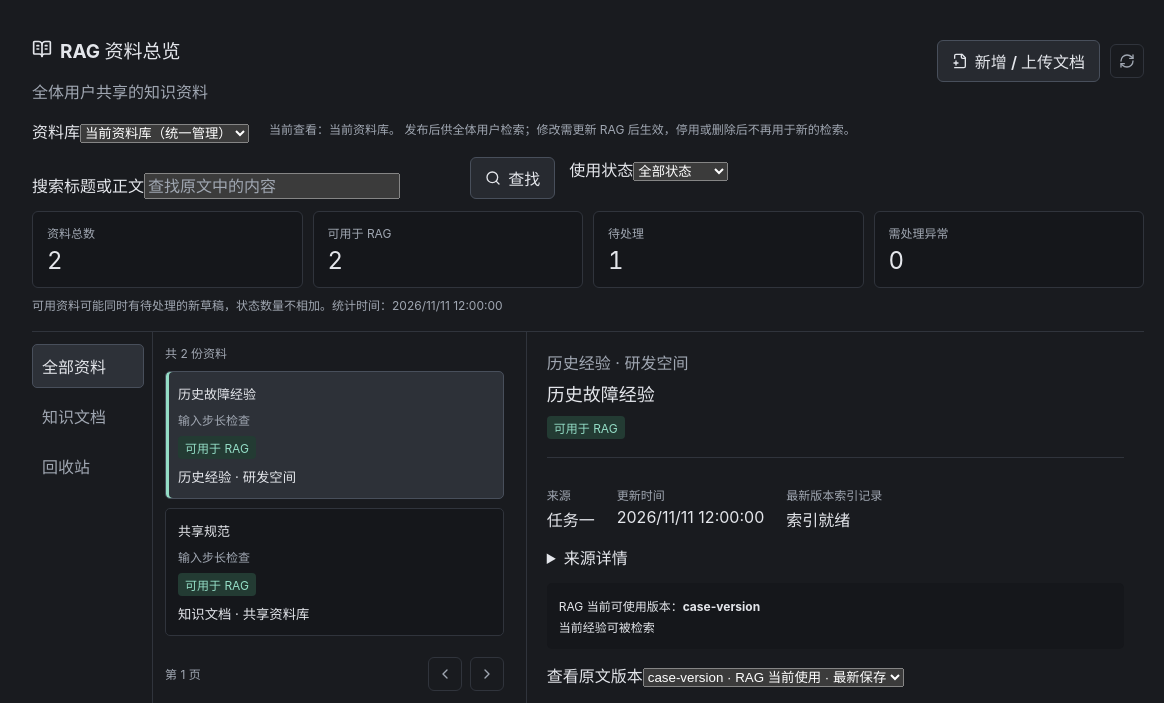
Test case: unified original-source catalog › clears administrator content when a later request receives 403
Click the button named "刷新资料总览": (1127, 61) [1110, 44, 1144, 78]
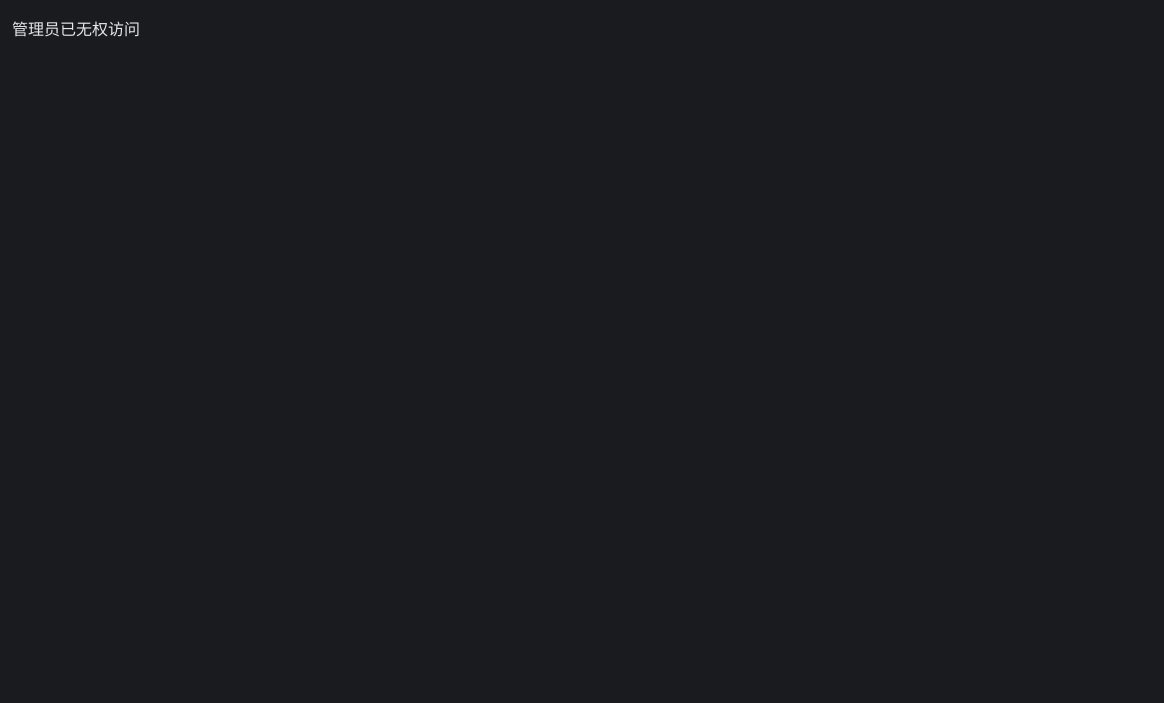
Now the text "管理员已无权访问" is shown, box [12, 19, 140, 39]
